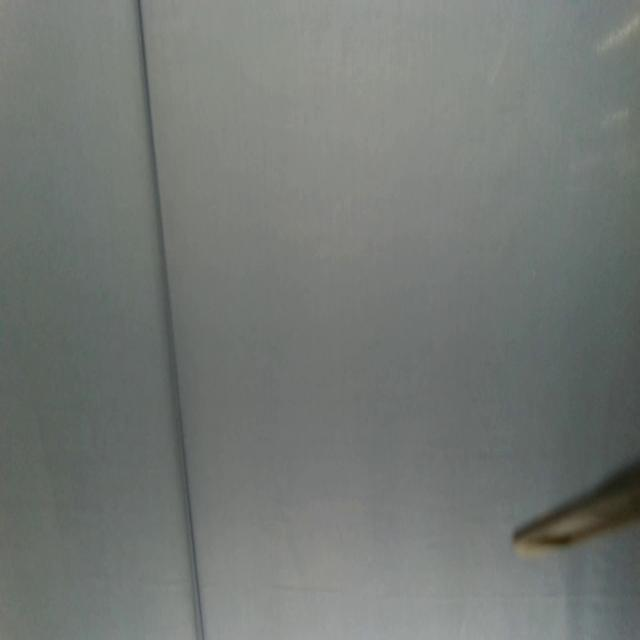crease: (135, 0, 205, 640)
